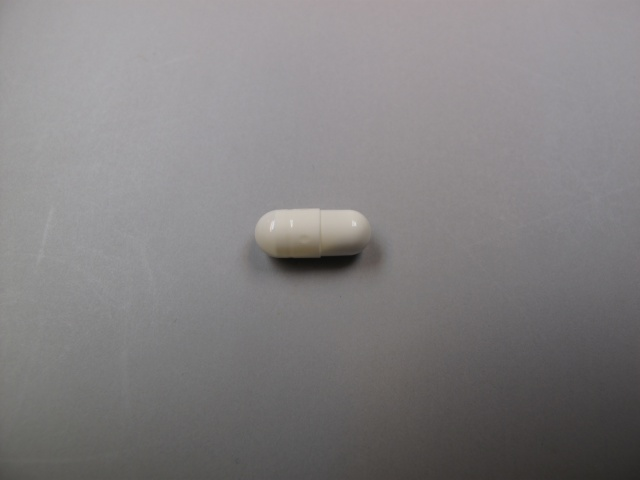capsule: (252, 208, 378, 257)
